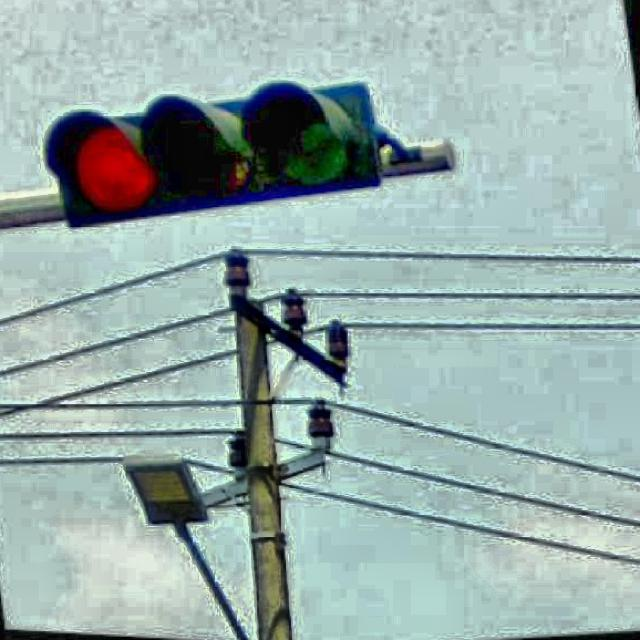red: (38, 80, 362, 222)
